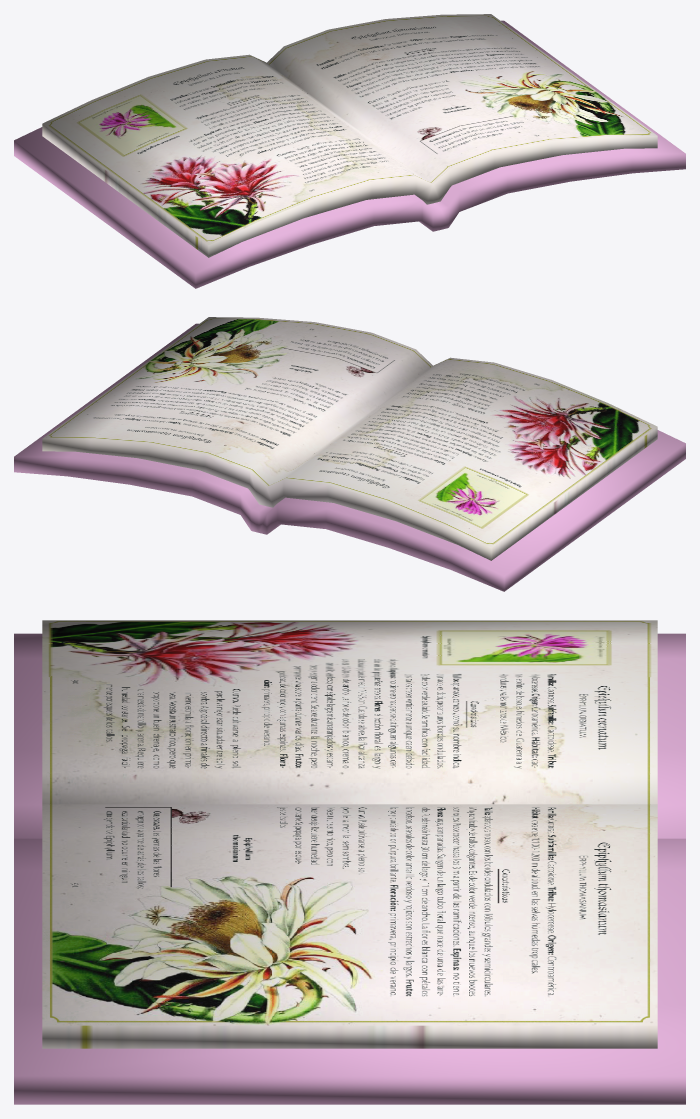
File: libro_abierto.fbx
The picture shows the model from 3 angles, top to bottom: view 1: azimuth 30°, elevation 25°; view 2: azimuth 150°, elevation 25°; view 3: azimuth 270°, elevation 25°; orthographic projection. The views are drawn at different scales.
Parts seen in each view (by area): view 1: Escritorio_LibroAbierto; view 2: Escritorio_LibroAbierto; view 3: Escritorio_LibroAbierto.
Part boxes in pixels (bbox=[...]): Escritorio_LibroAbierto: bbox=[14, 14, 685, 288]; Escritorio_LibroAbierto: bbox=[14, 317, 685, 591]; Escritorio_LibroAbierto: bbox=[14, 620, 685, 1104].
Size of the model in its own units: 43.38 by 4.9 by 27.84.
